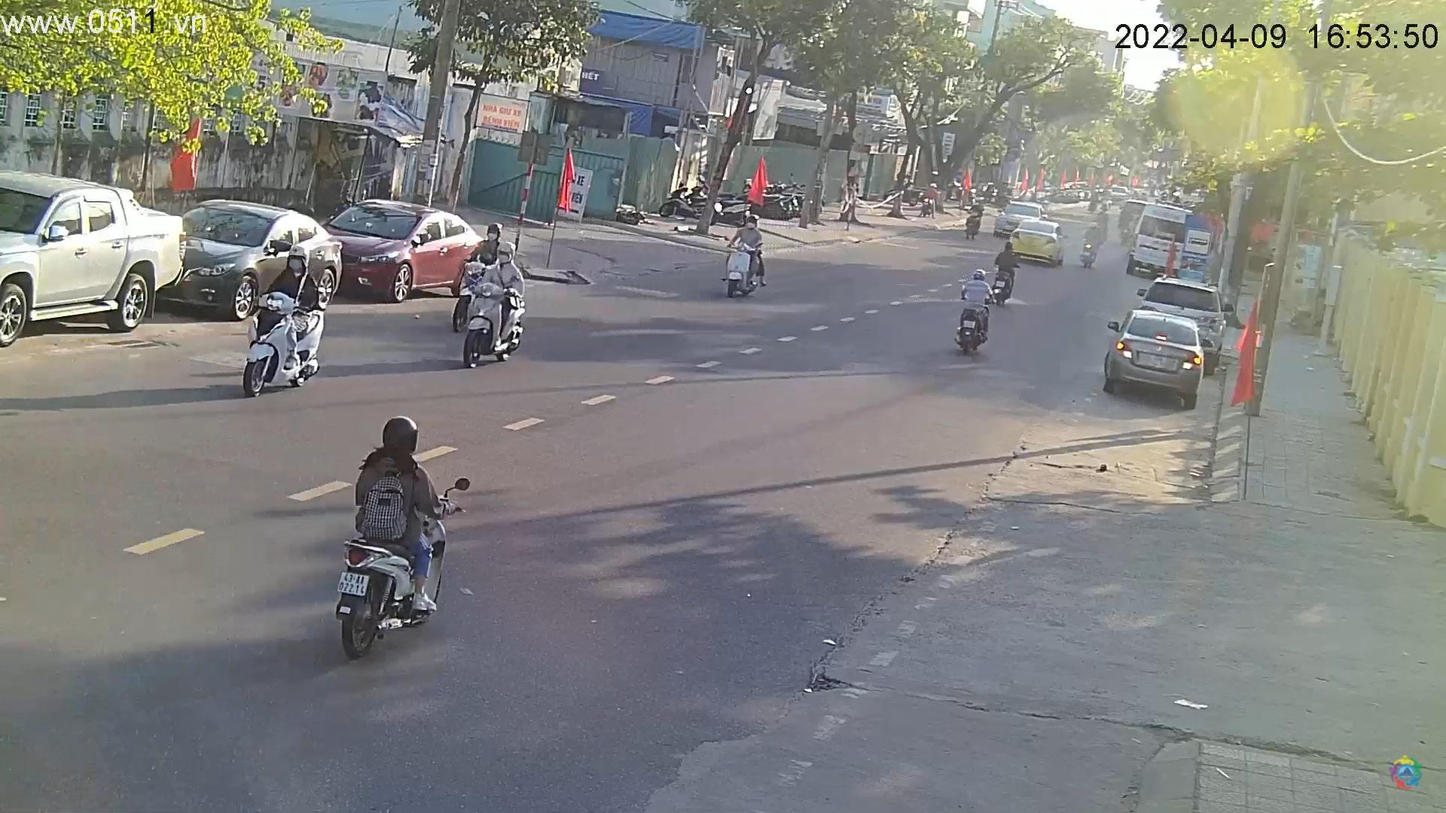car: (2, 171, 189, 352), (171, 201, 346, 326), (317, 198, 487, 305)
motorbike: (236, 287, 329, 400), (460, 264, 527, 371), (718, 230, 769, 300)
